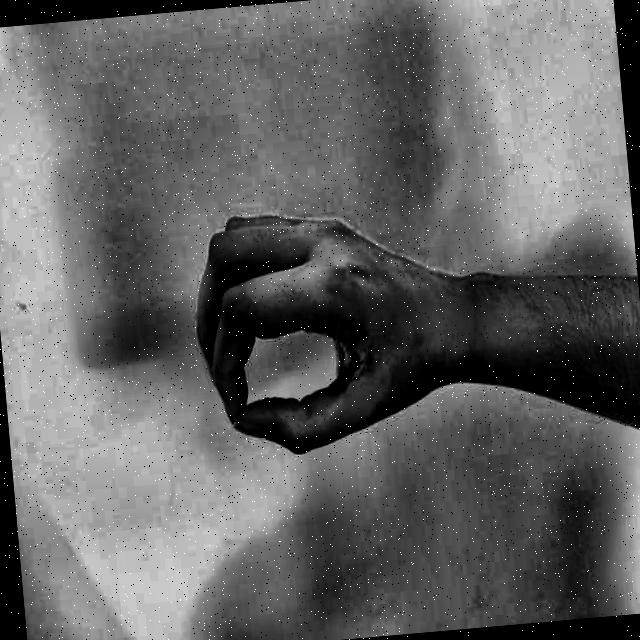O: (170, 172, 480, 489)
